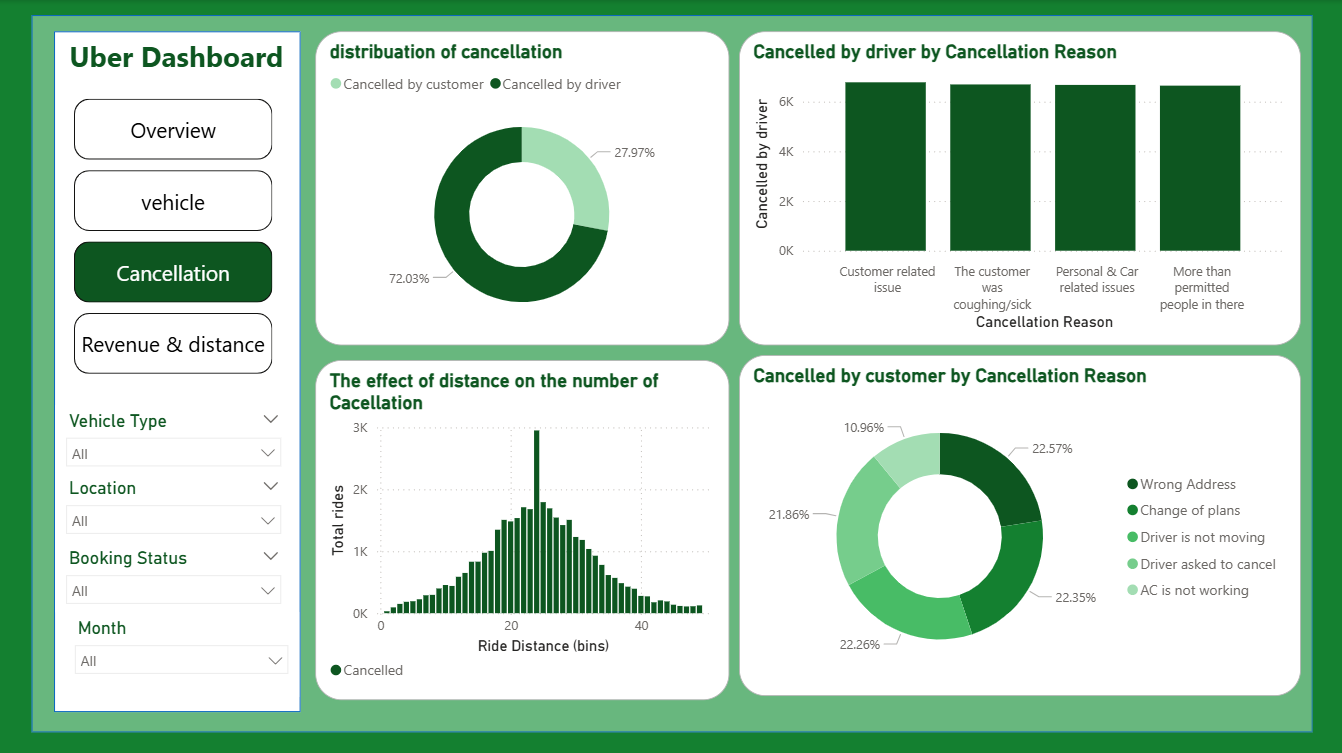

What the dashboard file says about the page in this screenshot:
{"tool":"powerbi","page":{"name":"Cancellation","canvas":[1280,720],"ordinal":2},"visuals":[{"type":"shape","box":[31,14.3,1220.2,683.3],"z":0},{"type":"shape","box":[52,29.5,234.9,648.4],"z":1000},{"type":"textbox","title":"layout","box":[61.9,29.5,216.6,67.5],"z":2000},{"type":"pageNavigator","box":[71.6,94.5,189,262.1],"z":3000},{"type":"lineStackedColumnComboChart","fields":{"Category":["data.Cancellation Reason"],"Y":["Measuress.Cancelled by driver"]},"box":[704.9,30.2,535.1,299.2],"z":4000},{"type":"donutChart","title":"distribuation of  cancellation","fields":{"Y":["Measuress.Cancelled by customer","Measuress.Cancelled by driver"]},"box":[300.7,30.2,394.2,299.2],"z":5000},{"type":"lineStackedColumnComboChart","title":"The effect of distance on the number of Cacellation","fields":{"Category":["data.Ride Distance (bins)"],"Series":["data.Booking Status"],"Y":["Measuress.Total rides"]},"box":[300.7,342.4,394.2,323.7],"z":6000},{"type":"donutChart","fields":{"Category":["data.Cancellation Reason"],"Y":["Measuress.Cancelled by customer"]},"box":[704.9,338.1,535.1,325.1],"z":7000},{"type":"slicer","fields":{"Values":["Dim_vehicle_type.Vehicle Type"]},"box":[53.6,385.7,225,64.3],"z":8000},{"type":"slicer","fields":{"Values":["Dim_locations.Drop Location"]},"box":[53.5,450.1,225.1,66.1],"z":9000},{"type":"slicer","fields":{"Values":["Dim_date.Date.Variation.Date Hierarchy.Month"]},"box":[61.3,583.1,224,80.1],"z":10000},{"type":"slicer","fields":{"Values":["data.Booking Status"]},"box":[53.5,516.2,225.1,66.1],"z":11000}]}

Visuals, with their boxes in screenshot pixels (x1, y1, x2, y2), scaled from the page's 1280x720 canvas onto the 1342x753 screenshot:
shape: <box>33,15,1312,730</box>
shape: <box>55,31,301,709</box>
"layout" textbox: <box>65,31,292,101</box>
pageNavigator: <box>75,99,273,373</box>
lineStackedColumnComboChart - data.Cancellation Reason x Measuress.Cancelled by driver: <box>739,32,1300,344</box>
"distribuation of  cancellation" donutChart: <box>315,32,729,344</box>
"The effect of distance on the number of Cacellation" lineStackedColumnComboChart: <box>315,358,729,697</box>
donutChart - data.Cancellation Reason x Measuress.Cancelled by customer: <box>739,354,1300,694</box>
slicer - Dim_vehicle_type.Vehicle Type: <box>56,403,292,471</box>
slicer - Dim_locations.Drop Location: <box>56,471,292,540</box>
slicer - Dim_date.Date.Variation.Date Hierarchy.Month: <box>64,610,299,694</box>
slicer - data.Booking Status: <box>56,540,292,609</box>
